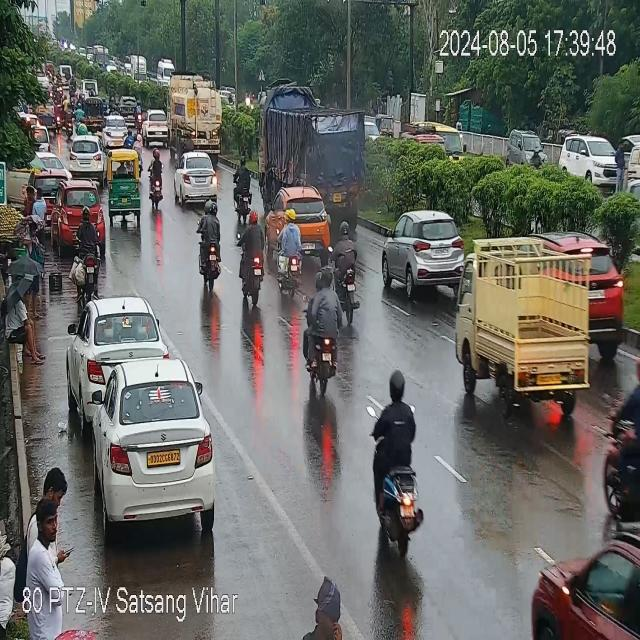2-wheelers: (371, 367, 423, 552), (606, 367, 640, 508), (306, 266, 339, 389), (334, 226, 364, 322), (192, 204, 226, 288), (76, 208, 109, 270), (275, 214, 299, 299), (243, 207, 264, 303), (54, 78, 76, 132), (147, 152, 165, 208), (236, 160, 249, 226), (102, 86, 116, 113), (76, 101, 86, 135), (126, 130, 142, 150), (136, 100, 142, 126)
auto: (108, 156, 144, 223), (86, 96, 102, 130), (379, 113, 394, 138)
car: (76, 362, 220, 530), (524, 547, 636, 639), (70, 298, 165, 398), (382, 215, 465, 293), (556, 135, 618, 191), (55, 187, 106, 243), (594, 237, 620, 346), (174, 154, 221, 207), (304, 187, 328, 264), (66, 138, 108, 178), (508, 131, 546, 169), (141, 110, 173, 143), (106, 115, 124, 147), (120, 96, 134, 122)
pedestrian: (289, 573, 349, 640), (26, 512, 72, 598), (2, 286, 45, 362), (38, 466, 69, 510), (29, 186, 52, 236)
truck: (458, 233, 588, 404), (263, 107, 368, 218), (168, 74, 234, 154)
